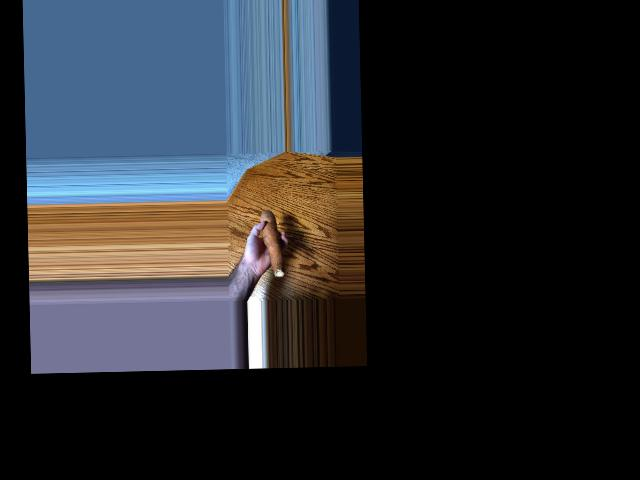sweet_potato: (263, 206, 285, 283)
